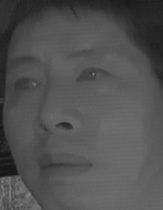eye: (73, 62, 112, 89), (10, 73, 41, 96)
mouth: (36, 147, 92, 184)
